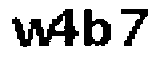4: (49, 9, 81, 48)
7: (116, 5, 150, 49)
b: (82, 7, 114, 50)
w: (7, 15, 55, 48)
